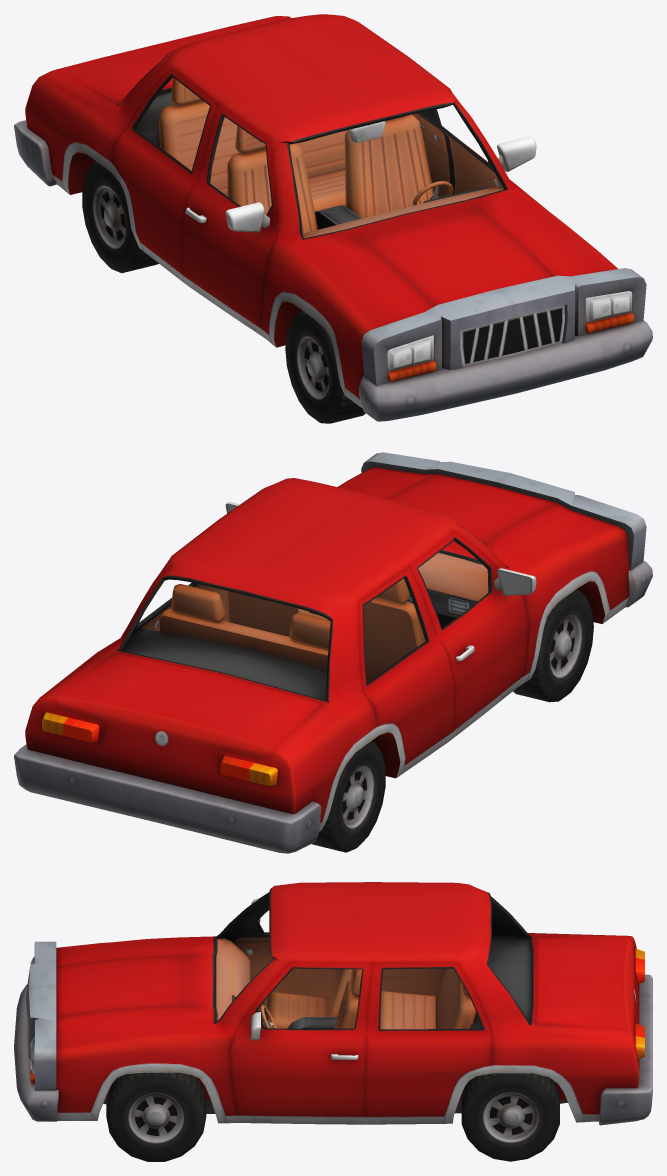
The model's file is CarOld05.FBX.
The picture shows the model from 3 angles, top to bottom: view 1: azimuth 30°, elevation 25°; view 2: azimuth 150°, elevation 25°; view 3: azimuth 270°, elevation 25°; orthographic projection. The views are drawn at different scales.
Visible parts, largest first — view 1: CarOld05; view 2: CarOld05; view 3: CarOld05.
Boxes of the visible parts, x1,y1,x2,y2 form: CarOld05: [14, 14, 652, 423]; CarOld05: [14, 452, 652, 853]; CarOld05: [14, 882, 652, 1161].
Size of the model in its own units: 2.38 by 1.69 by 4.98.
